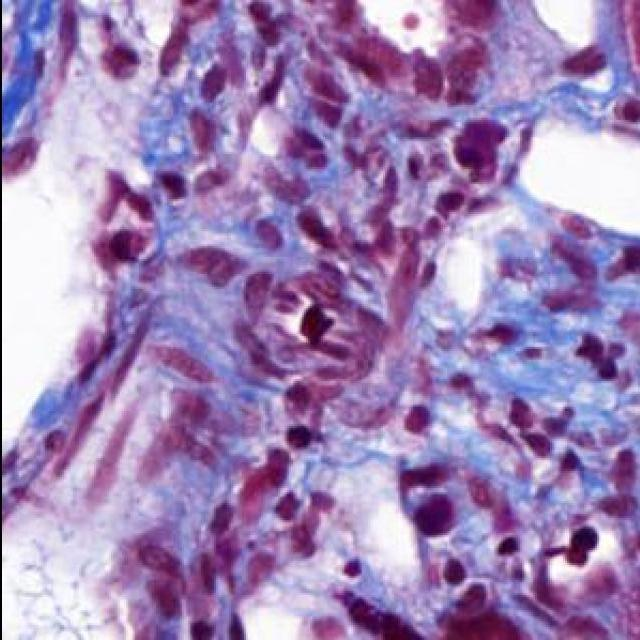inflammation: (451, 120, 506, 182), (574, 334, 624, 380), (296, 206, 334, 250), (159, 19, 188, 76), (412, 495, 452, 536), (399, 462, 449, 490), (561, 45, 605, 76), (136, 542, 178, 574), (258, 55, 284, 106), (299, 305, 332, 345), (564, 528, 597, 566), (541, 408, 572, 438), (199, 64, 224, 101), (154, 170, 184, 200), (519, 431, 550, 458), (402, 405, 430, 434), (272, 491, 299, 521), (108, 231, 134, 262), (508, 398, 532, 430), (285, 426, 311, 449), (442, 559, 464, 585), (190, 620, 213, 640), (496, 536, 518, 555), (341, 559, 361, 579), (228, 614, 243, 640)
